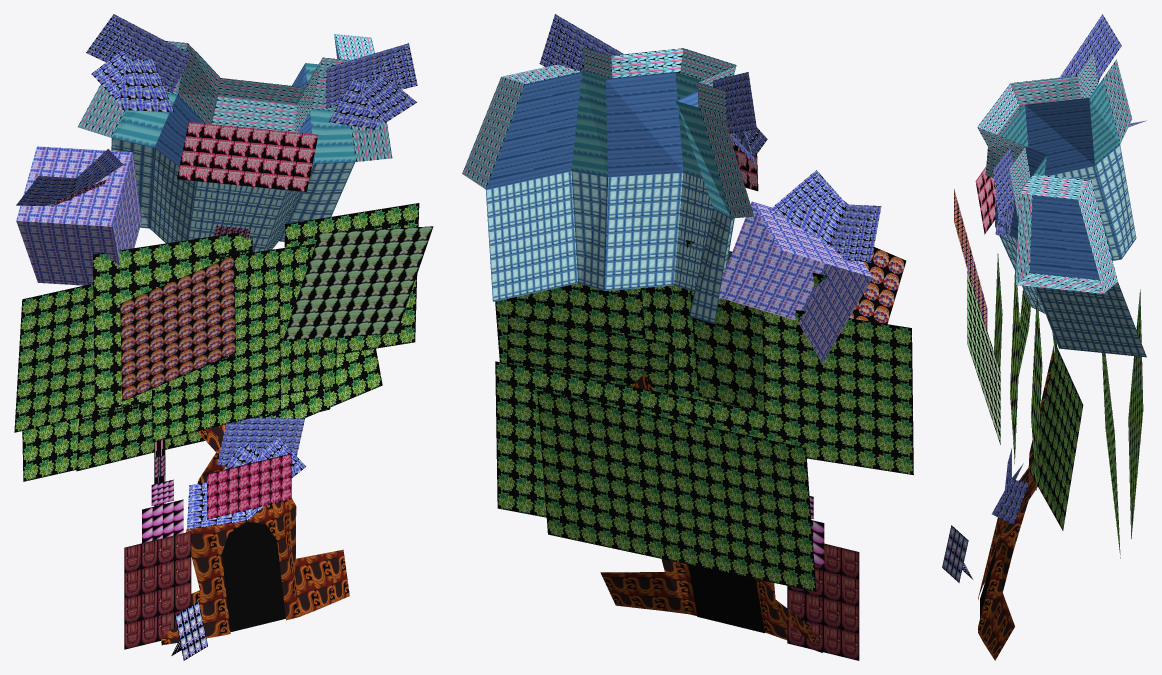
File: tp_huku00.gltf
The picture shows the model from 3 angles, left to right: view 1: azimuth 30°, elevation 25°; view 2: azimuth 150°, elevation 25°; view 3: azimuth 270°, elevation 25°; orthographic projection. The views are drawn at different scales.
Visible parts, largest first — view 1: tp_huku00; view 2: tp_huku00; view 3: tp_huku00.
Boxes of the visible parts, x1=… form: tp_huku00: x1=14, y1=14, x2=433, y2=660; tp_huku00: x1=462, y1=14, x2=913, y2=660; tp_huku00: x1=942, y1=14, x2=1146, y2=660.
Bounding box in the file's own units: 5.08 × 7.07 × 2.35.
18 materials, 18 textured.
